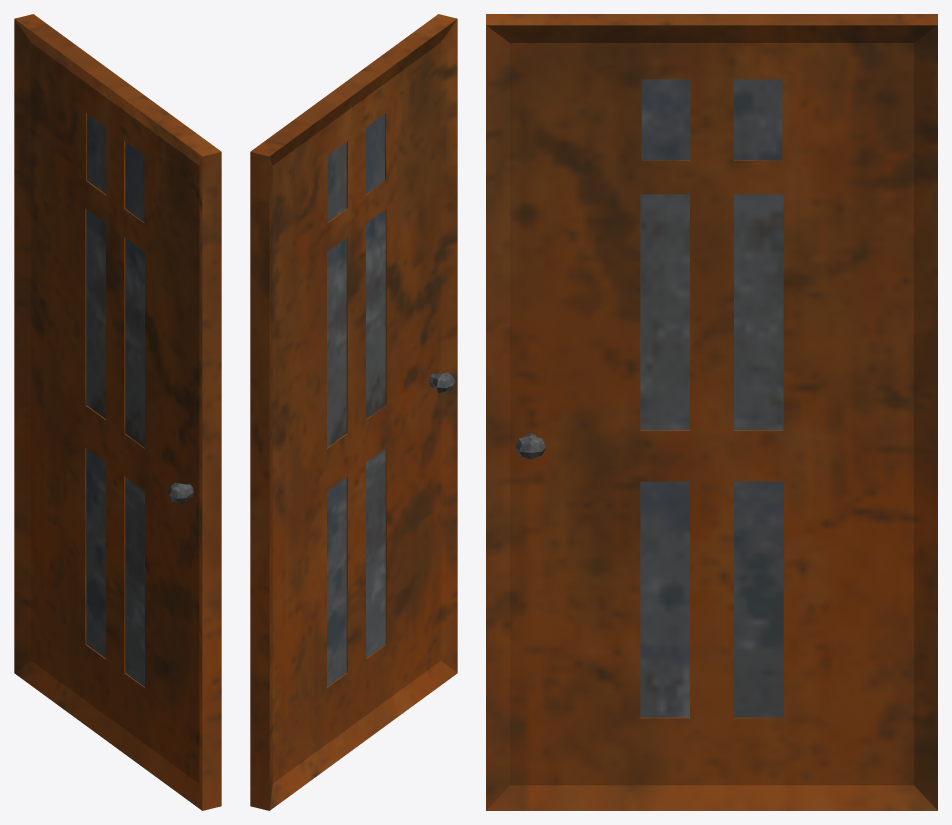
The model's file is Door2_SM.fbx.
3 renders of one model, left to right at view 1: azimuth 30°, elevation 25°; view 2: azimuth 150°, elevation 25°; view 3: azimuth 270°, elevation 25°, orthographic. The views are drawn at different scales.
Visible parts, largest first — view 1: Box012; view 2: Box012; view 3: Box012.
Boxes of the visible parts, <box> form: Box012: <box>14,14,221,810</box>; Box012: <box>250,14,457,810</box>; Box012: <box>486,14,937,810</box>.
Size of the model in its own units: 17.78 by 232 by 121.
